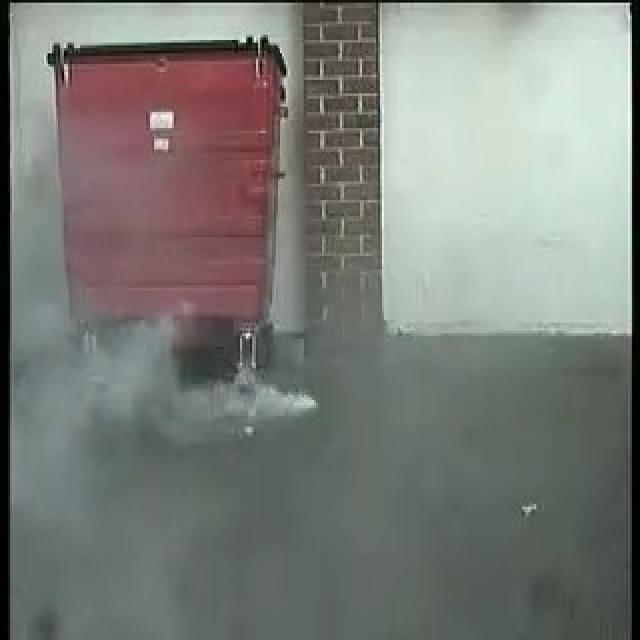smoke: (112, 318, 316, 427)
